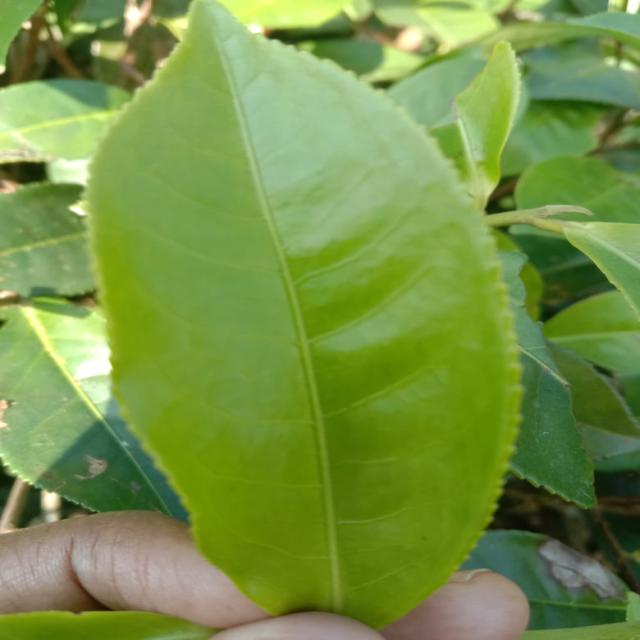Category B(2-4 days): (70, 0, 544, 630)
